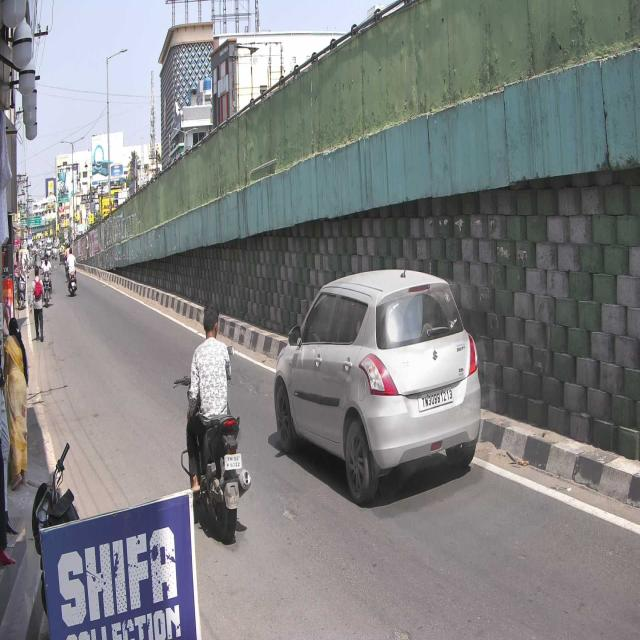single_rider: (174, 305, 251, 541)
